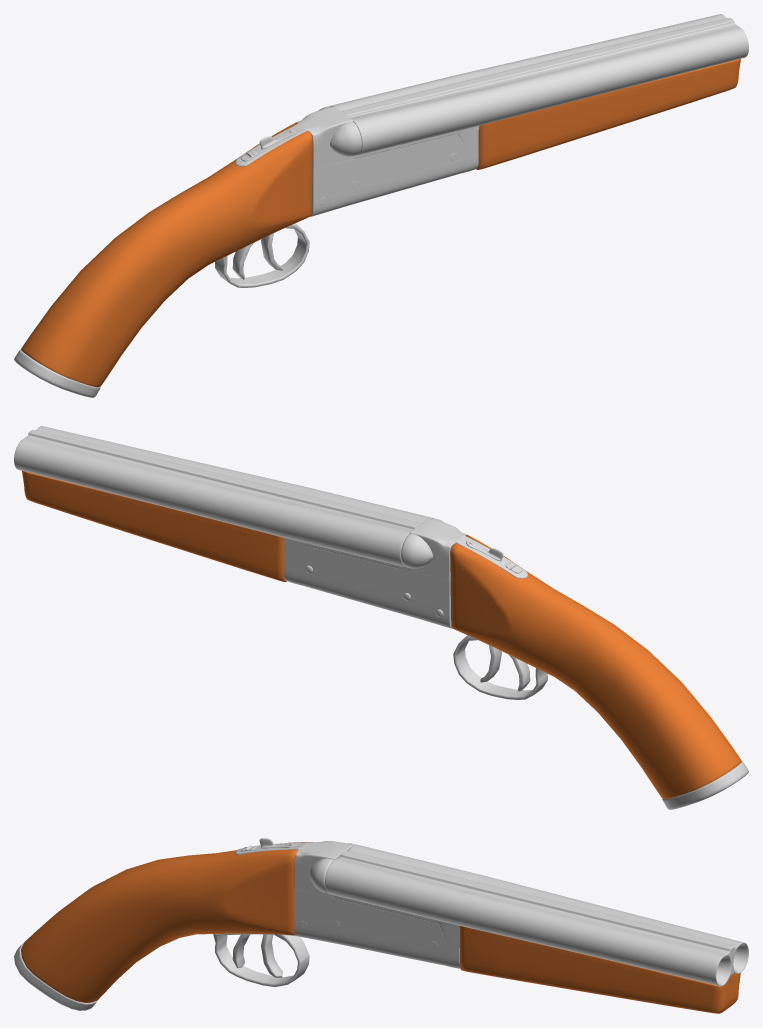
File: doubleBarrelHight.fbx
The picture shows the model from 3 angles, top to bottom: view 1: azimuth 30°, elevation 25°; view 2: azimuth 150°, elevation 25°; view 3: azimuth 330°, elevation 25°; orthographic projection.
Parts seen in each view (by area): view 1: Cylinder.004, Cylinder, Cylinder.003, Cylinder.001, Cylinder.005, Cylinder.002, Cylinder.007; view 2: Cylinder.004, Cylinder, Cylinder.003, Cylinder.001, Cylinder.005, Cylinder.002, Cylinder.007; view 3: Cylinder.004, Cylinder, Cylinder.003, Cylinder.001, Cylinder.005, Cylinder.007, Cylinder.002.
Part boxes in pixels (x1,y1,x2,y2): Cylinder.004: (14,123,312,397); Cylinder: (330,14,748,173); Cylinder.003: (476,59,740,169); Cylinder.001: (235,106,466,216); Cylinder.005: (215,223,309,287); Cylinder.002: (318,106,361,156); Cylinder.007: (232,233,282,279); Cylinder.004: (450,535,748,809); Cylinder: (14,426,432,585); Cylinder.003: (22,471,286,581); Cylinder.001: (296,518,527,628); Cylinder.005: (453,635,547,699); Cylinder.002: (401,518,444,568); Cylinder.007: (480,645,530,691); Cylinder.004: (14,842,309,1010); Cylinder: (325,844,748,986); Cylinder.003: (459,926,740,1013); Cylinder.001: (235,841,447,965); Cylinder.005: (213,933,309,986); Cylinder.007: (232,934,282,977); Cylinder.002: (309,843,355,893).
Size of the model in its own units: 452 by 133 by 41.3.
